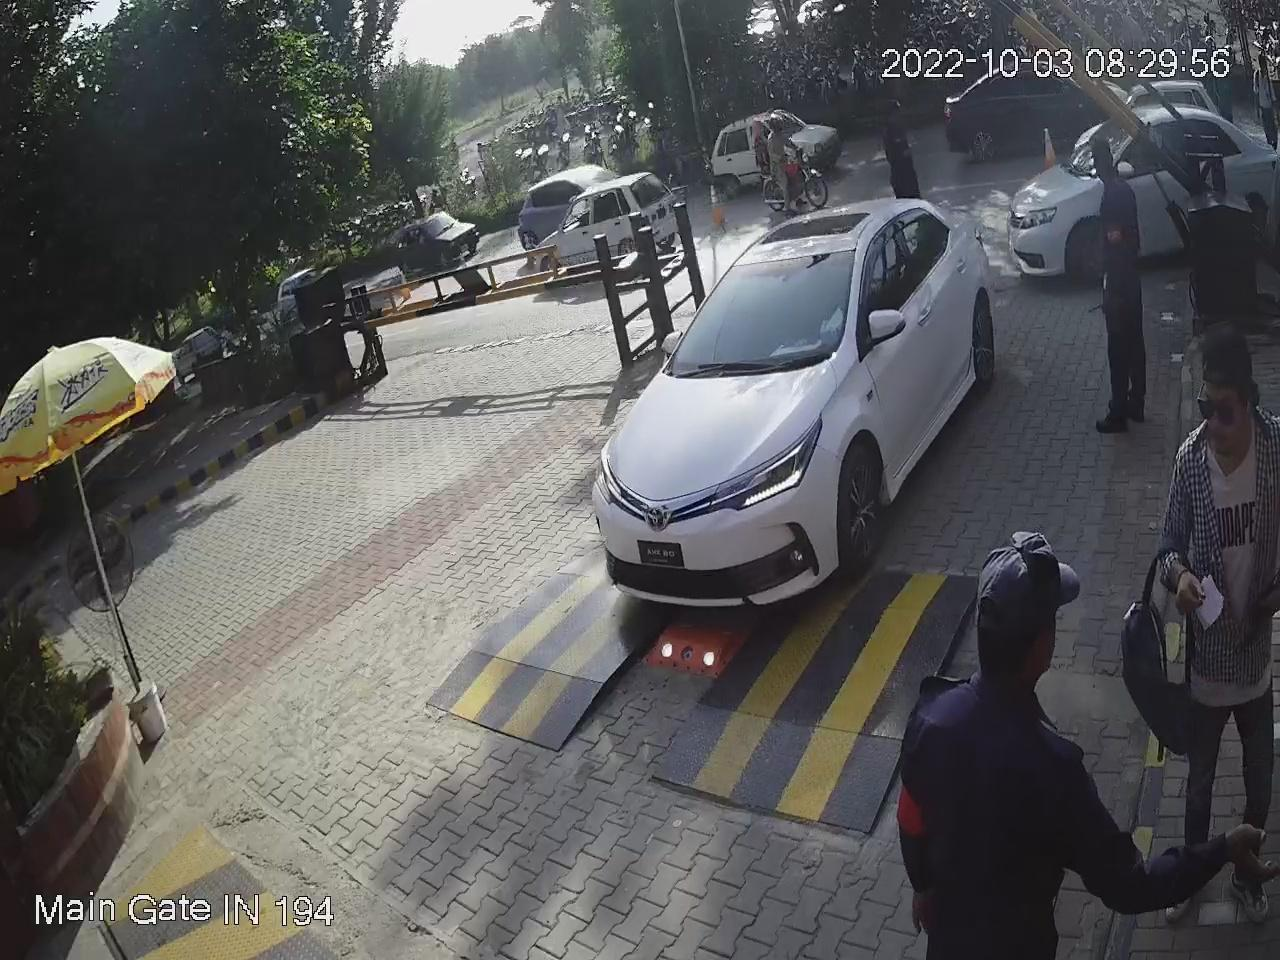windshield: (663, 238, 856, 370)
